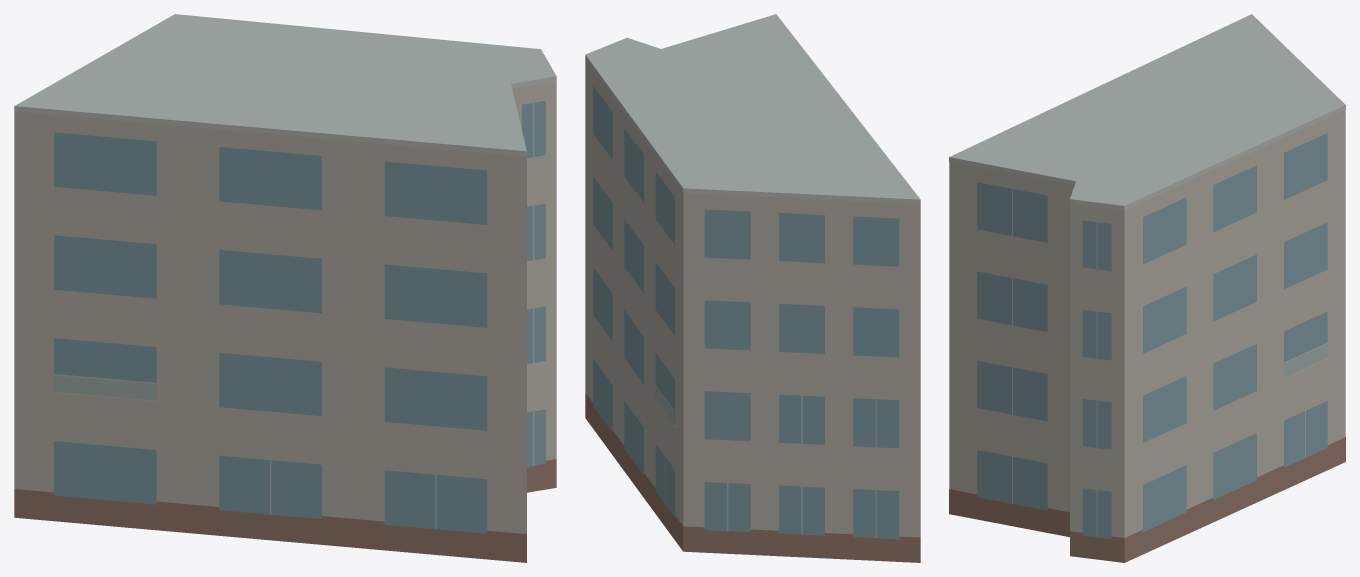
The model's file is survey-upis-32797618.glb.
3 views of the same model, side by side, from view 1: azimuth 30°, elevation 25°; view 2: azimuth 150°, elevation 25°; view 3: azimuth 270°, elevation 25° (orthographic). The views are drawn at different scales.
Visible parts, largest first — view 1: survey-upis-32797618.tmp; view 2: survey-upis-32797618.tmp; view 3: survey-upis-32797618.tmp.
Boxes of the visible parts, box(x1,y1,x2,y2) form: survey-upis-32797618.tmp: box(14, 14, 556, 562); survey-upis-32797618.tmp: box(585, 14, 920, 562); survey-upis-32797618.tmp: box(949, 14, 1345, 562).
Bounding box in the file's own units: 21.85 × 18.95 × 19.09.
